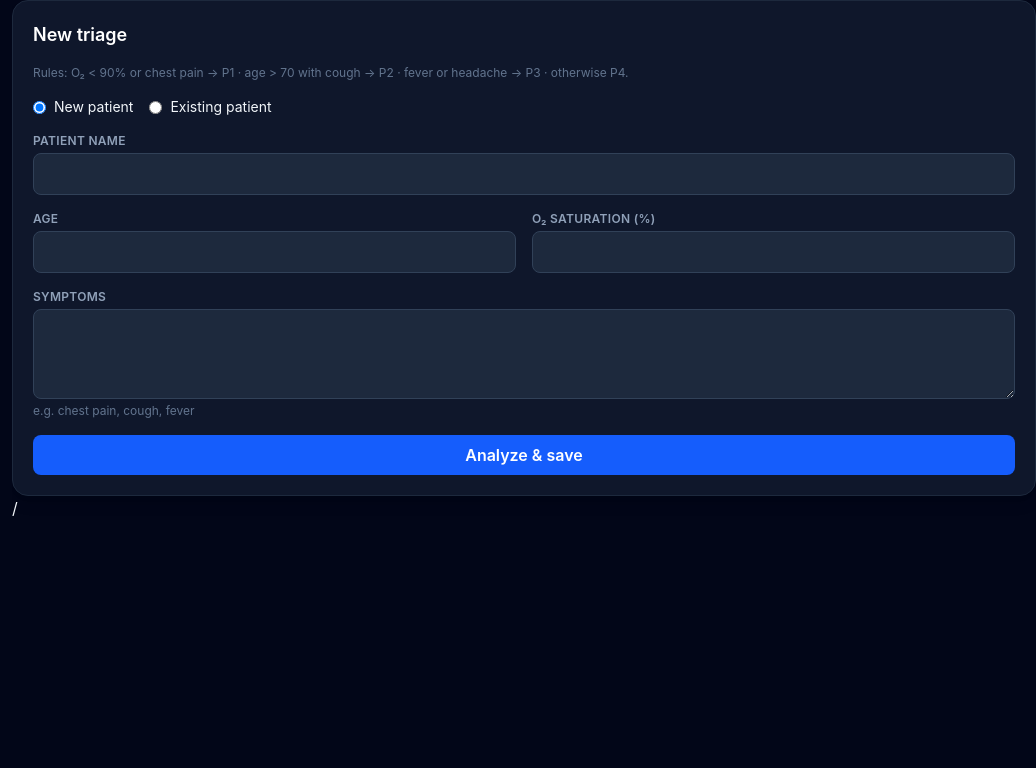
it: TriageForm › blocks invalid vitals with accessible error messages
In the field labelled "Patient name": (524, 174) [33, 153, 1015, 195], type "X"
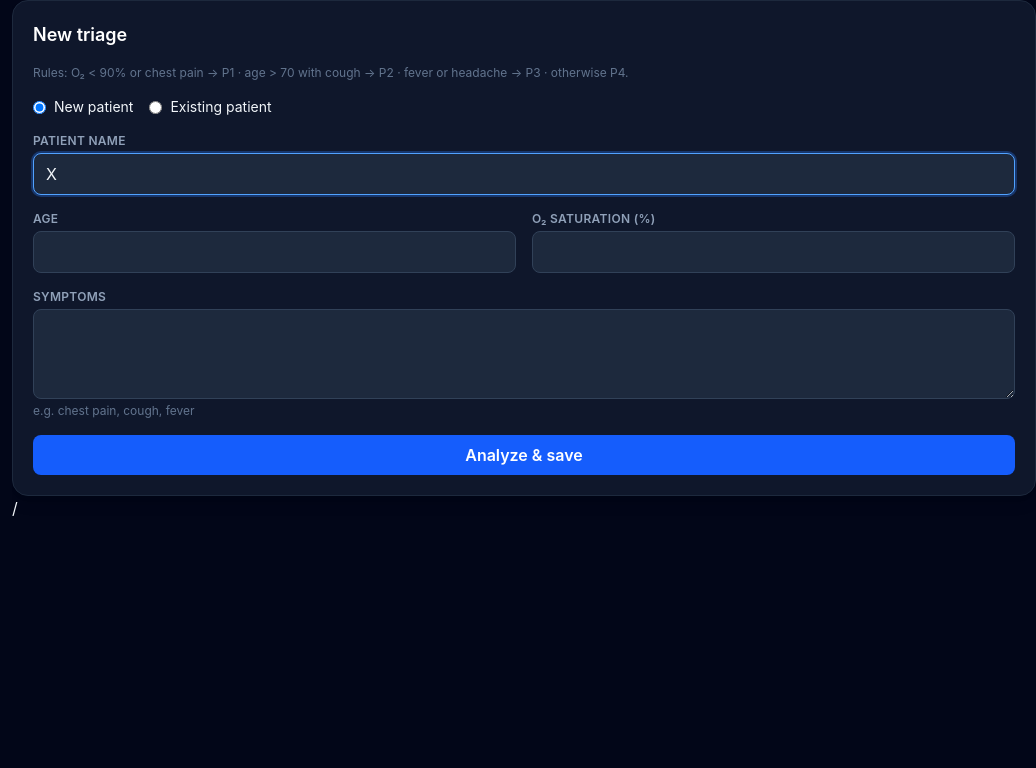
In the number field labelled "Age": (274, 252) [33, 231, 516, 273], type "140"
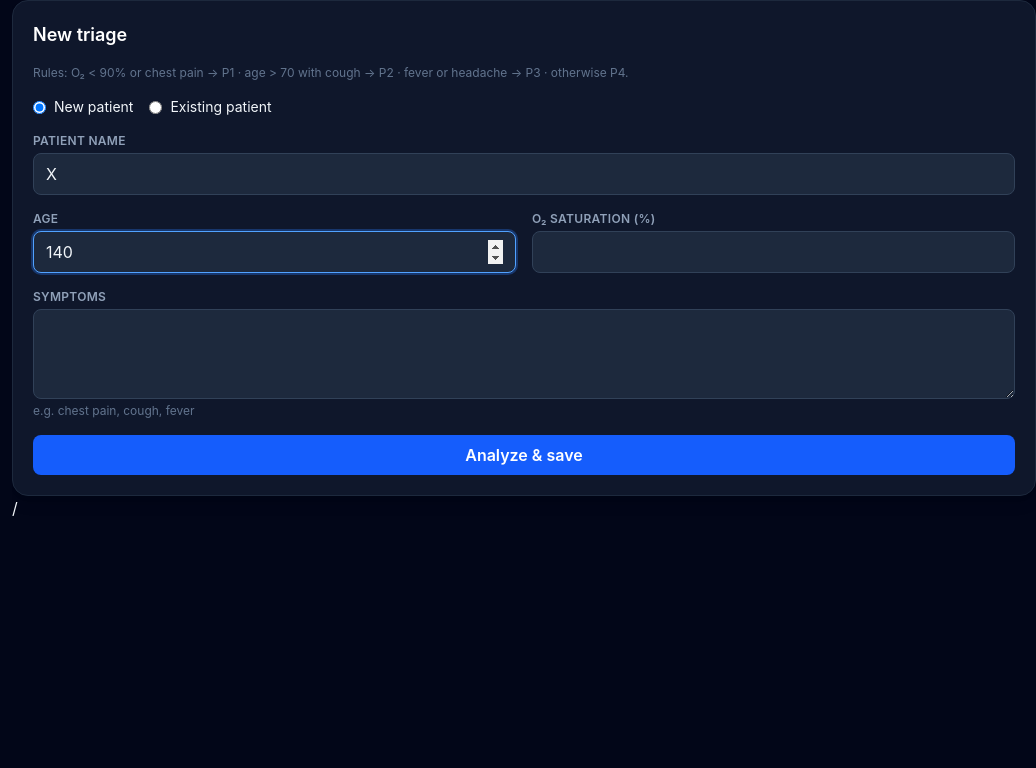
In the number field labelled "O₂ saturation (%)": (774, 252) [532, 231, 1015, 273], type "120"
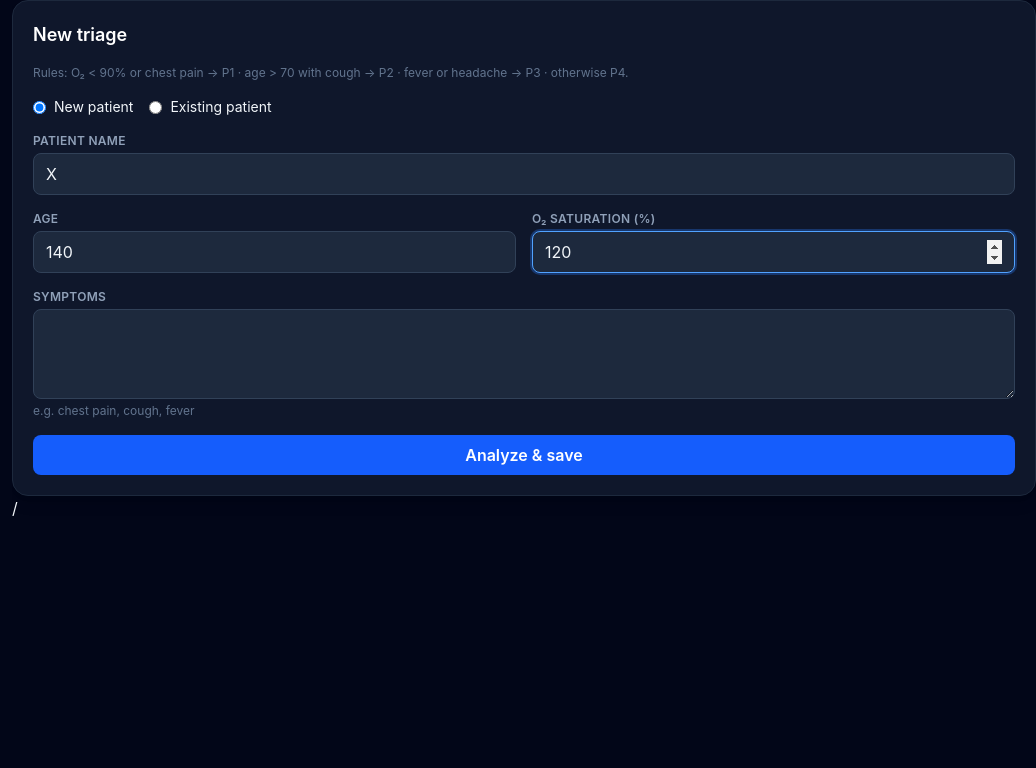
Click the button "Analyze & save": click(524, 455) [33, 435, 1015, 475]
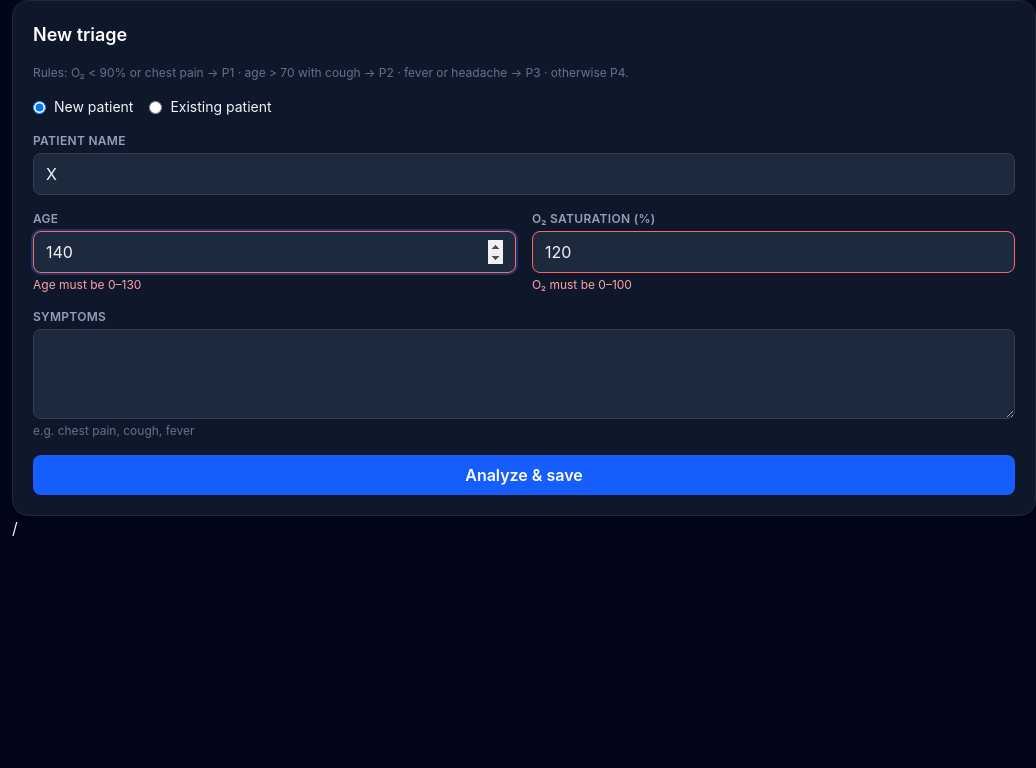
Now the text "Age must be 0–130" is shown, box [33, 277, 141, 292]
Now the text "O₂ must be 0–100" is shown, box [532, 277, 632, 292]
